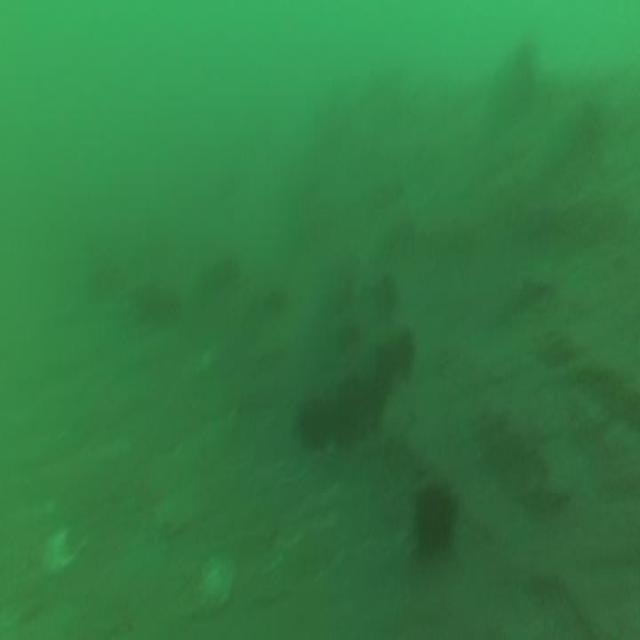echinus: (409, 468, 461, 572), (378, 327, 415, 386), (335, 381, 366, 447), (298, 392, 328, 449)
scallop: (196, 552, 238, 613)
